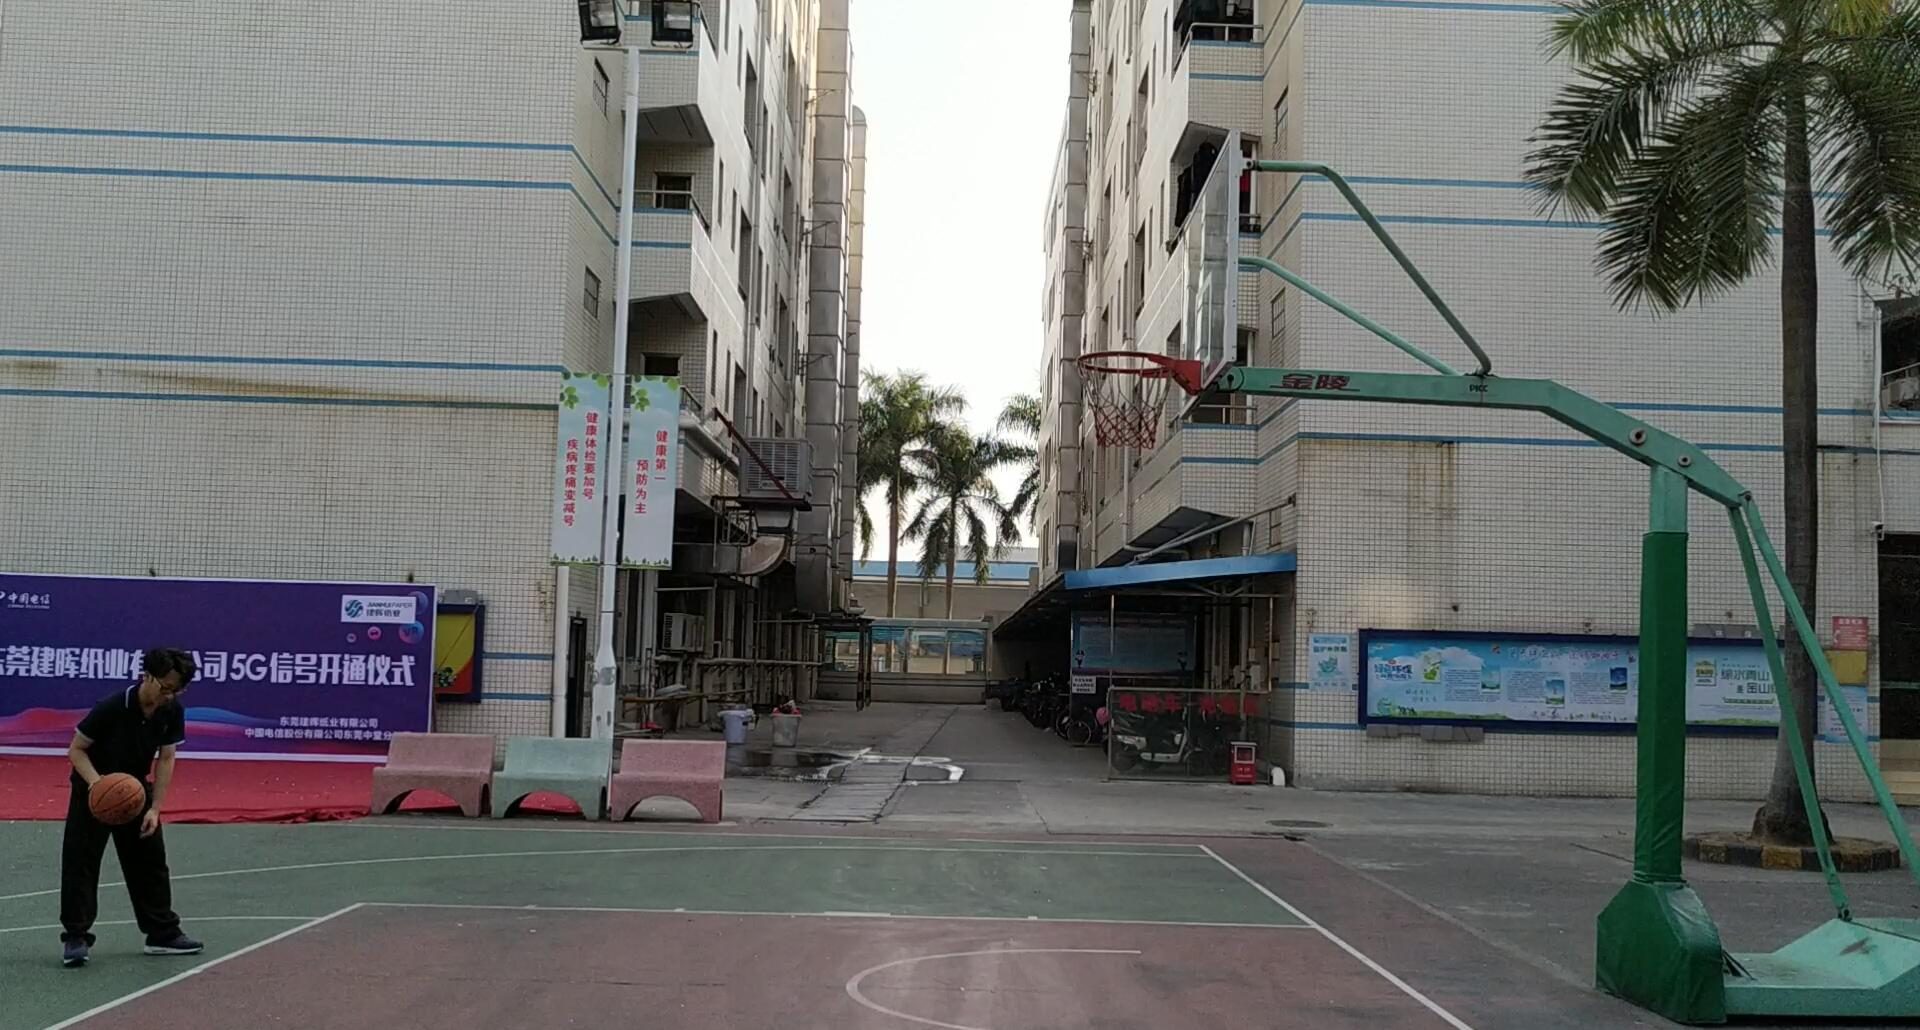basketball: (86, 773, 151, 828)
